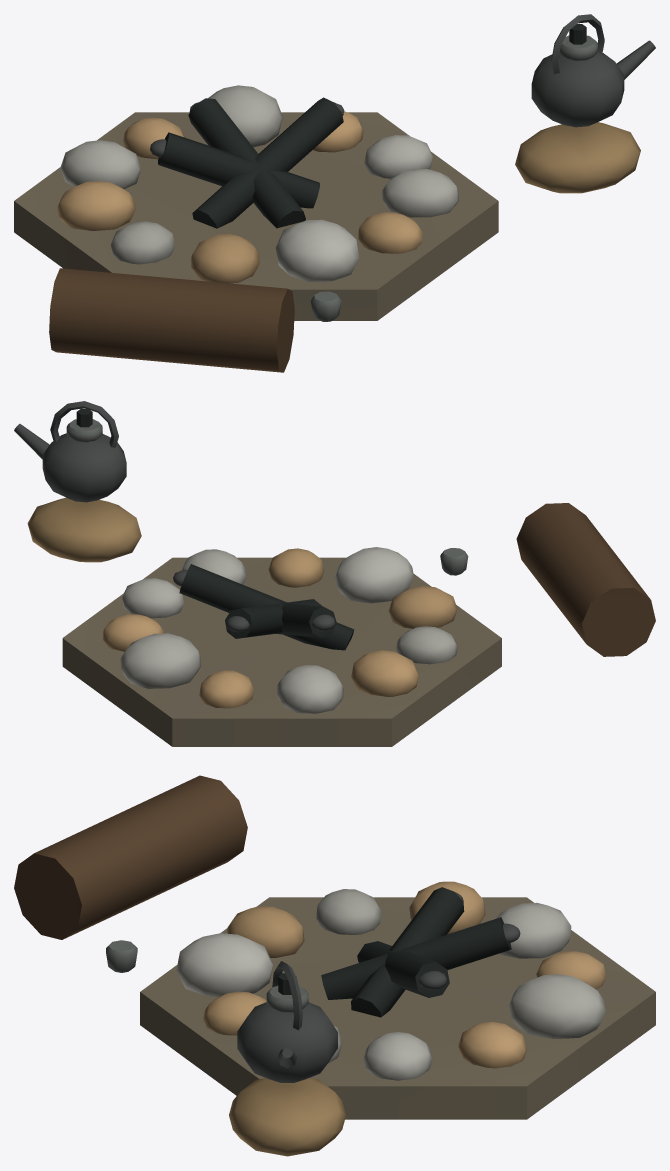
File: cold_campfire_a.glb
3 views of the same model, one above another, from view 1: azimuth 30°, elevation 25°; view 2: azimuth 150°, elevation 25°; view 3: azimuth 270°, elevation 25° (orthographic). The views are drawn at different scales.
Visible parts, largest first — view 1: Surface; view 2: Surface; view 3: Surface.
Part boxes in pixels (x1=…): Surface: x1=14, y1=14, x2=655, y2=372; Surface: x1=14, y1=401, x2=655, y2=746; Surface: x1=14, y1=775, x2=655, y2=1156.
Bounding box in the file's own units: 6.57 × 1.81 × 5.23.
